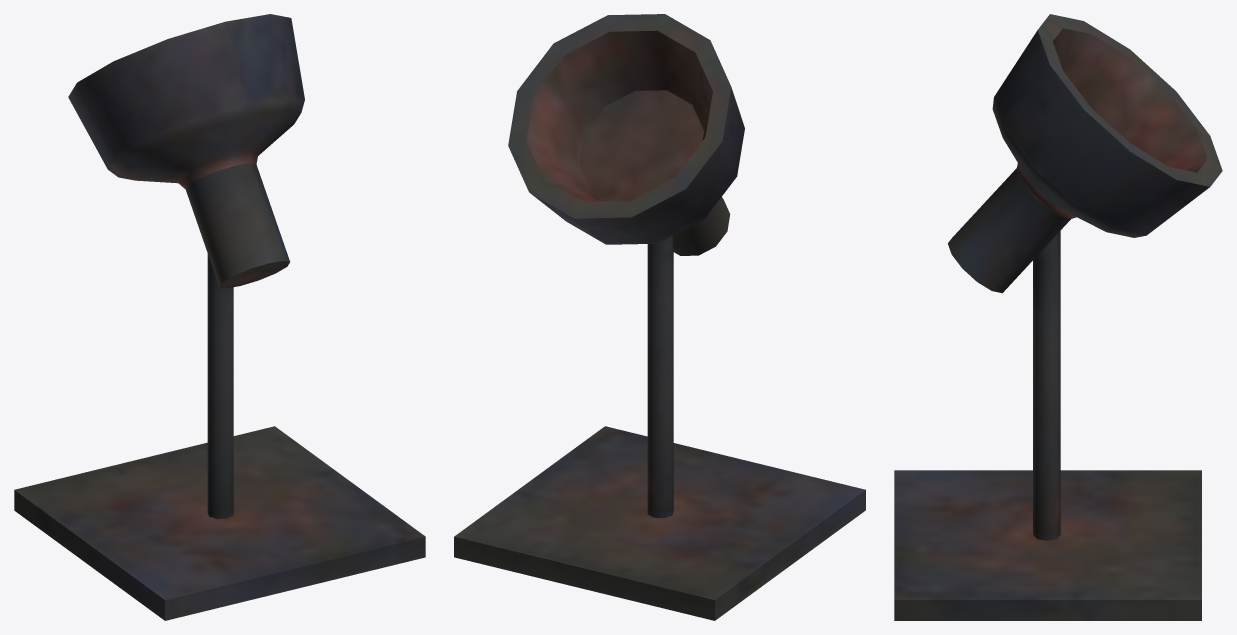
The model's file is LampUp.FBX.
3 renders of one model, left to right at view 1: azimuth 30°, elevation 25°; view 2: azimuth 150°, elevation 25°; view 3: azimuth 270°, elevation 25°, orthographic.
Parts seen in each view (by area): view 1: LampUp; view 2: LampUp; view 3: LampUp.
Part boxes in pixels (bbox=[...]): LampUp: bbox=[14, 14, 425, 620]; LampUp: bbox=[454, 14, 865, 620]; LampUp: bbox=[894, 14, 1222, 620].
Bounding box in the file's own units: 19.47 × 36.83 × 20.84.
